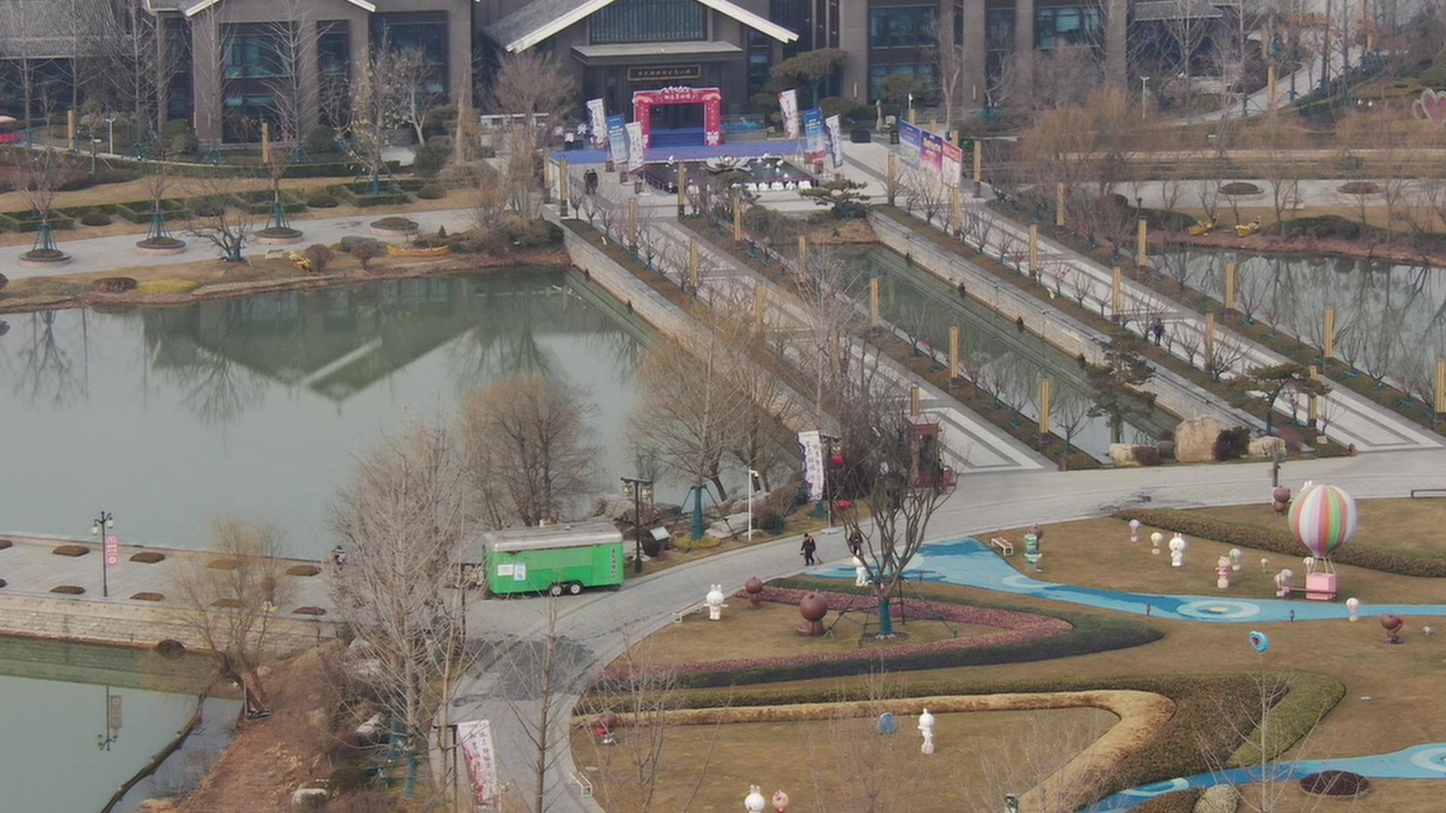class_2: (578, 160, 598, 199)
human: (840, 514, 870, 555), (795, 523, 821, 569), (1150, 309, 1168, 343)
